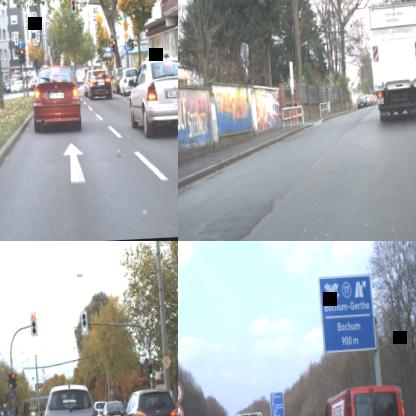go right: (124, 42, 129, 52)
go straight: (17, 38, 23, 48)
no overtaking: (178, 402, 183, 416)
priority road: (160, 353, 171, 370), (121, 30, 130, 42)
speed limit 120: (178, 380, 183, 403)
